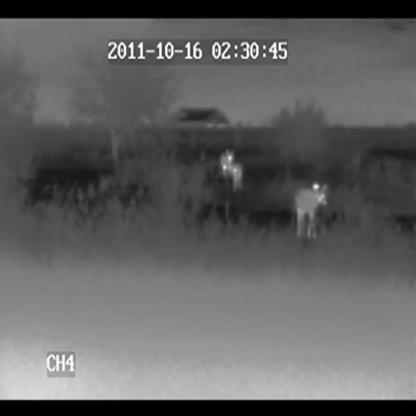rehkitze: (288, 183, 330, 244), (216, 148, 246, 191)
